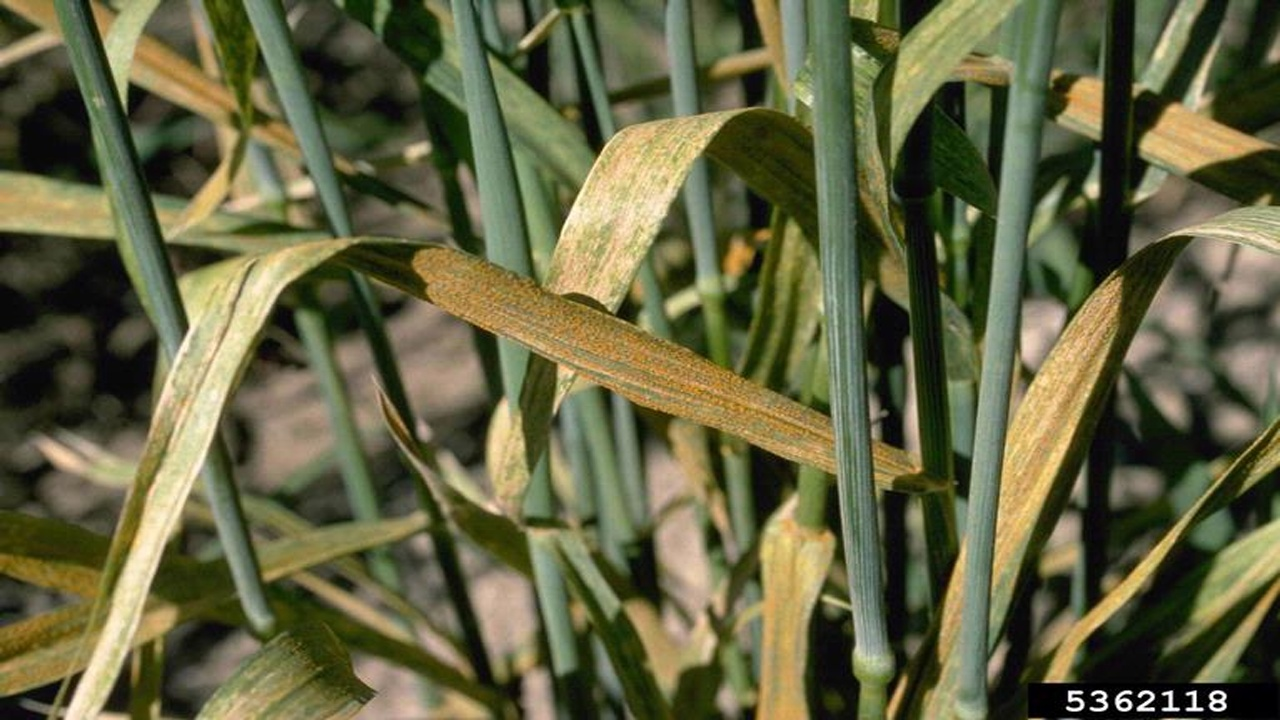stripe_rust: (345, 244, 943, 495), (49, 274, 294, 720), (952, 238, 1176, 647), (548, 112, 758, 291), (1057, 84, 1280, 208), (1, 170, 325, 249), (506, 364, 563, 521)
